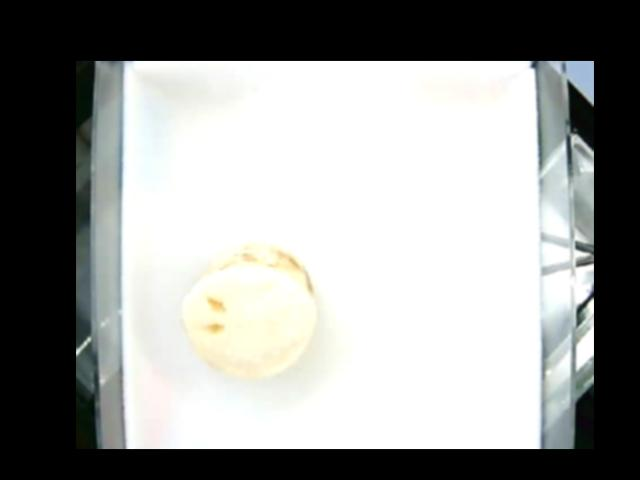Mooli: (179, 242, 316, 380)
